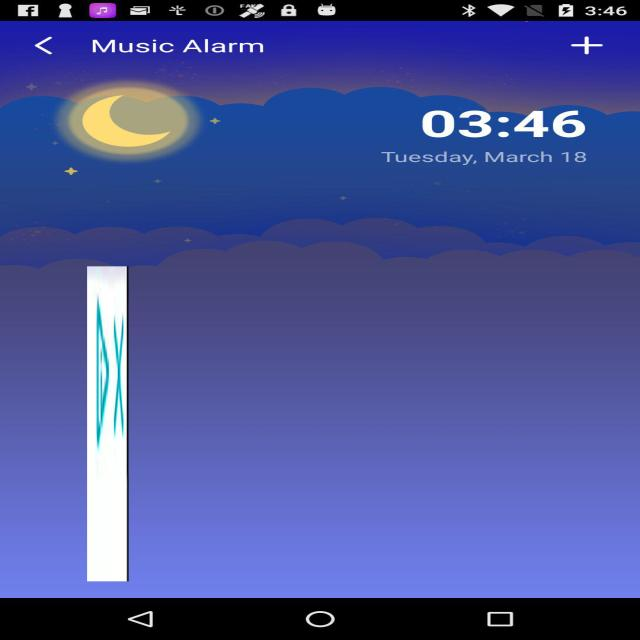sneaking: (87, 266, 129, 582)
